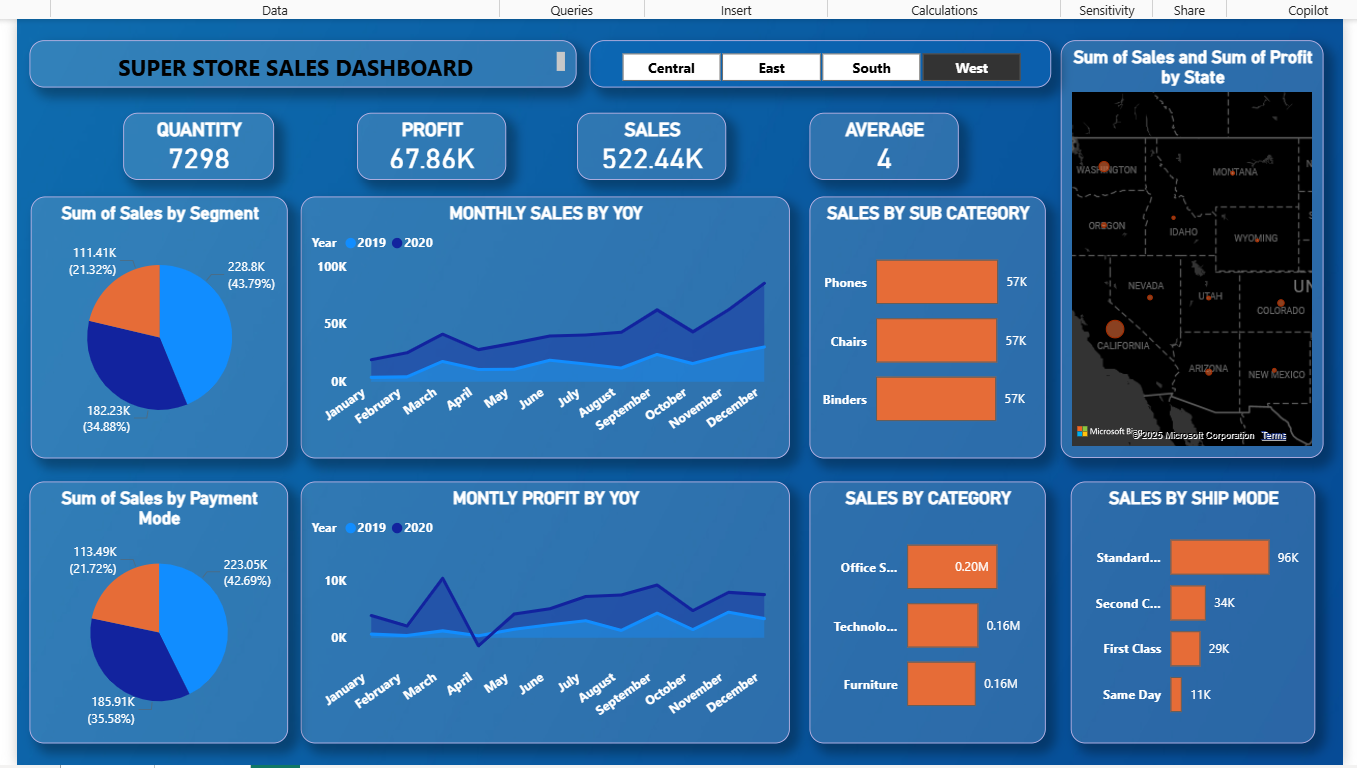

The page's visual inventory and layout, read from the dashboard file:
{"tool":"powerbi","page":{"name":"Page 1","canvas":[1280,720],"ordinal":0},"visuals":[{"type":"clusteredBarChart","title":"SALES BY CATEGORY ","fields":{"Category":["Sheet1.Category"],"Y":["Sum(Sheet1.Sales)"]},"box":[764.3,446,227.8,252.5],"z":0},{"type":"clusteredBarChart","title":"SALES BY SUB CATEGORY ","fields":{"Y":["Sum(Sheet1.Sales)"],"Category":["Sheet1.Sub-Category"]},"box":[764.3,171.5,227.8,252.5],"z":1000},{"type":"clusteredBarChart","title":"SALES BY SHIP MODE ","fields":{"Y":["Sum(Sheet1.Sales)"],"Category":["Sheet1.Ship Mode"]},"box":[1016.8,446,236,252.5],"z":2000},{"type":"stackedAreaChart","title":"MONTHLY SALES BY YOY ","fields":{"Y":["Sum(Sheet1.Sales)"],"Category":["Sheet1.Order Date.Variation.Date Hierarchy.Month"],"Series":["Sheet1.Order Date.Variation.Date Hierarchy.Year"]},"box":[274.4,171.5,472,252.5],"z":3000},{"type":"stackedAreaChart","title":"MONTLY PROFIT BY YOY ","fields":{"Category":["Sheet1.Order Date.Variation.Date Hierarchy.Month"],"Series":["Sheet1.Order Date.Variation.Date Hierarchy.Year"],"Y":["Sum(Sheet1.Profit)"]},"box":[274.4,446,472,252.5],"z":4000},{"type":"map","fields":{"Category":["Sheet1.State"],"Size":["Sum(Sheet1.Sales)"]},"box":[1007.2,20.6,253.9,403.4],"z":5000},{"type":"pieChart","fields":{"Category":["Sheet1.Segment"],"Y":["Sum(Sheet1.Sales)"]},"box":[13.7,171.5,248.4,252.5],"z":6000},{"type":"pieChart","fields":{"Y":["Sum(Sheet1.Sales)"],"Category":["Sheet1.Payment Mode"]},"box":[12.3,446,249.7,252.5],"z":7000},{"type":"slicer","fields":{"Values":["Sheet1.Region"]},"box":[553,20.6,446,45.3],"z":8000},{"type":"textbox","box":[12.3,20.6,528.3,45.3],"z":9000},{"type":"card","title":"SALES ","fields":{"Values":["Sum(Sheet1.Sales)"]},"box":[540.7,90.6,144.1,64.5],"z":10000},{"type":"card","title":"PROFIT ","fields":{"Values":["Sum(Sheet1.Profit)"]},"box":[328,90.6,144.1,64.5],"z":11000},{"type":"card","title":"QUANTITY ","fields":{"Values":["Sum(Sheet1.Quantity)"]},"box":[102.9,90.6,145.5,64.5],"z":12000},{"type":"card","title":"AVERAGE ","fields":{"Values":["Avg(Sheet1.AVERAGE DELIVERY)"]},"box":[764.3,90.6,144.1,64.5],"z":14000}]}

Visuals, with their boxes on the page's 1280x720 design canvas (x1, y1, x2, y2). These are canvas units, not pixel positions in the 1357x768 screenshot, which may show the page scaled, cropped or inside an application window:
"SALES BY CATEGORY " clusteredBarChart: 764:446:992:698
"SALES BY SUB CATEGORY " clusteredBarChart: 764:172:992:424
"SALES BY SHIP MODE " clusteredBarChart: 1017:446:1253:698
"MONTHLY SALES BY YOY " stackedAreaChart: 274:172:746:424
"MONTLY PROFIT BY YOY " stackedAreaChart: 274:446:746:698
map - Sheet1.State x Sum(Sheet1.Sales): 1007:21:1261:424
pieChart - Sheet1.Segment x Sum(Sheet1.Sales): 14:172:262:424
pieChart - Sum(Sheet1.Sales) x Sheet1.Payment Mode: 12:446:262:698
slicer - Sheet1.Region: 553:21:999:66
textbox: 12:21:541:66
"SALES " card: 541:91:685:155
"PROFIT " card: 328:91:472:155
"QUANTITY " card: 103:91:248:155
"AVERAGE " card: 764:91:908:155
